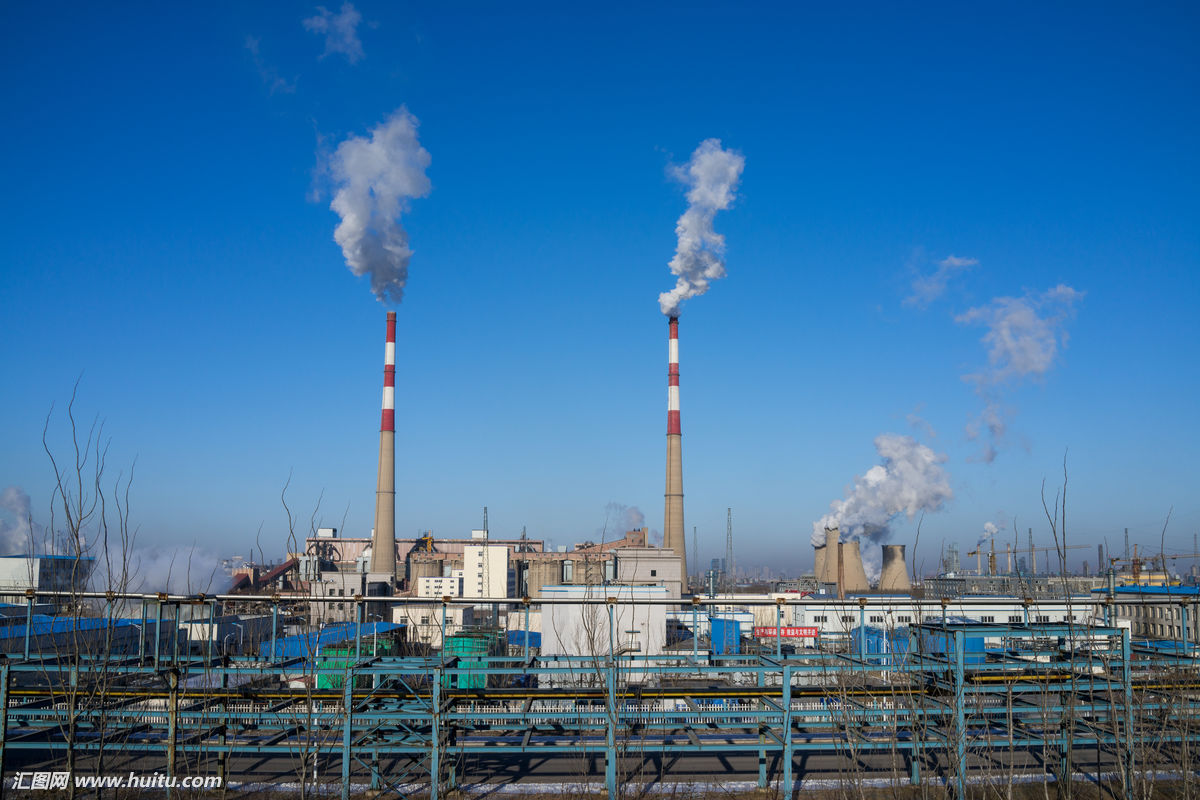dust: (812, 382, 960, 558), (630, 123, 748, 323), (322, 132, 447, 309)
